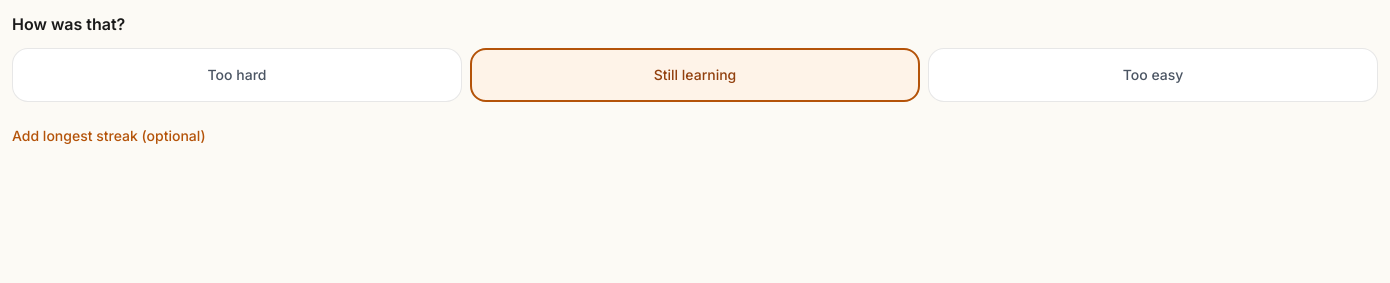
it: PerDrillCapture captureShape: streak (Phase 2A — D134) › reveals the streak input after tapping the affordance
This screenshot has width=1390, height=283.
Step 1. Click the button with test id "per-drill-add-streak" → point(109, 136), box [12,114,206,158]
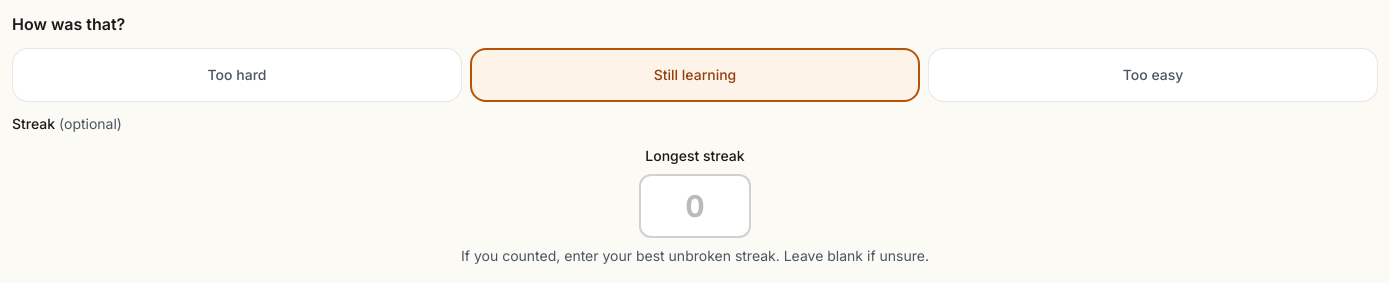
Expected: the element with test id "per-drill-streak" is shown, [12,115,929,264]
Expected: the field labelled "Longest streak" is shown, [639,174,751,238]
Expected: the text "If you counted, enter your best unbroken streak. Leave blank if unsure." is shown, [461,246,929,266]
